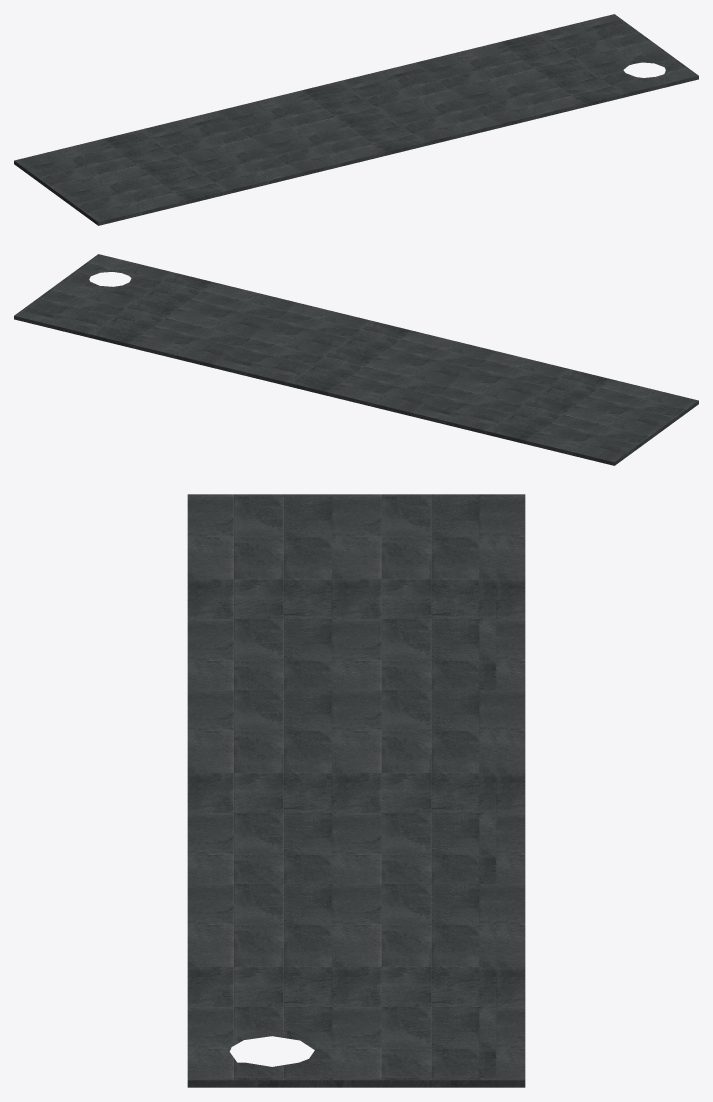
The model's file is floorw_hole.fbx.
3 views of the same model, one above another, from view 1: azimuth 30°, elevation 25°; view 2: azimuth 150°, elevation 25°; view 3: azimuth 270°, elevation 25° (orthographic). The views are drawn at different scales.
Parts seen in each view (by area): view 1: pCube175; view 2: pCube175; view 3: pCube175.
Part boxes in pixels (x1,y1,x2,y2): pCube175: [14, 14, 698, 225]; pCube175: [14, 254, 698, 465]; pCube175: [187, 494, 525, 1087].
Size of the model in its own units: 4430 by 25.41 by 1078.
